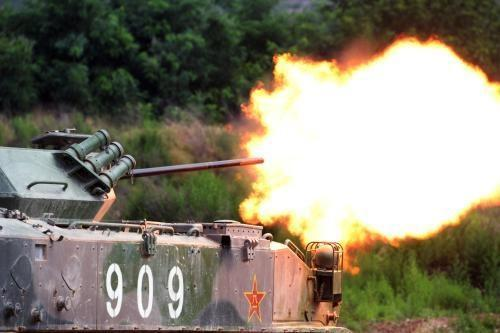fire: (241, 31, 491, 264)
